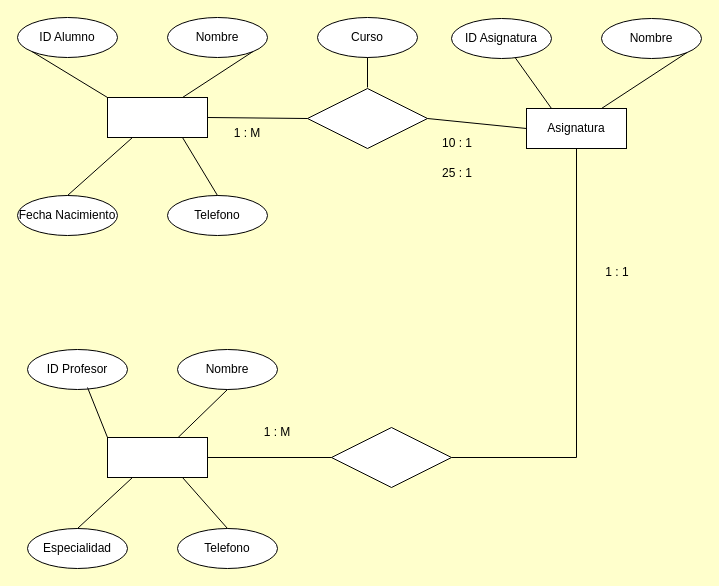
Some shapes in this 719 by 586 pixel diagram are drawn without their labels. Each missing label, with the centre of its shape:
"Alumno" belongs at pixel 157 117.
"Impartir" belongs at pixel 391 457.
"Inscripto" belongs at pixel 367 118.
"Profesor" belongs at pixel 157 457.
